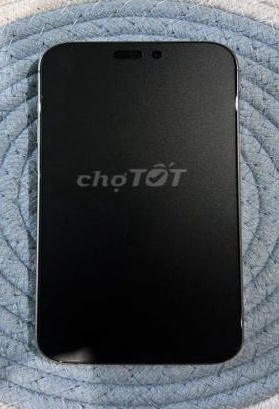scratch: (226, 90, 248, 116), (50, 356, 87, 365), (32, 95, 47, 117), (237, 311, 250, 332)
